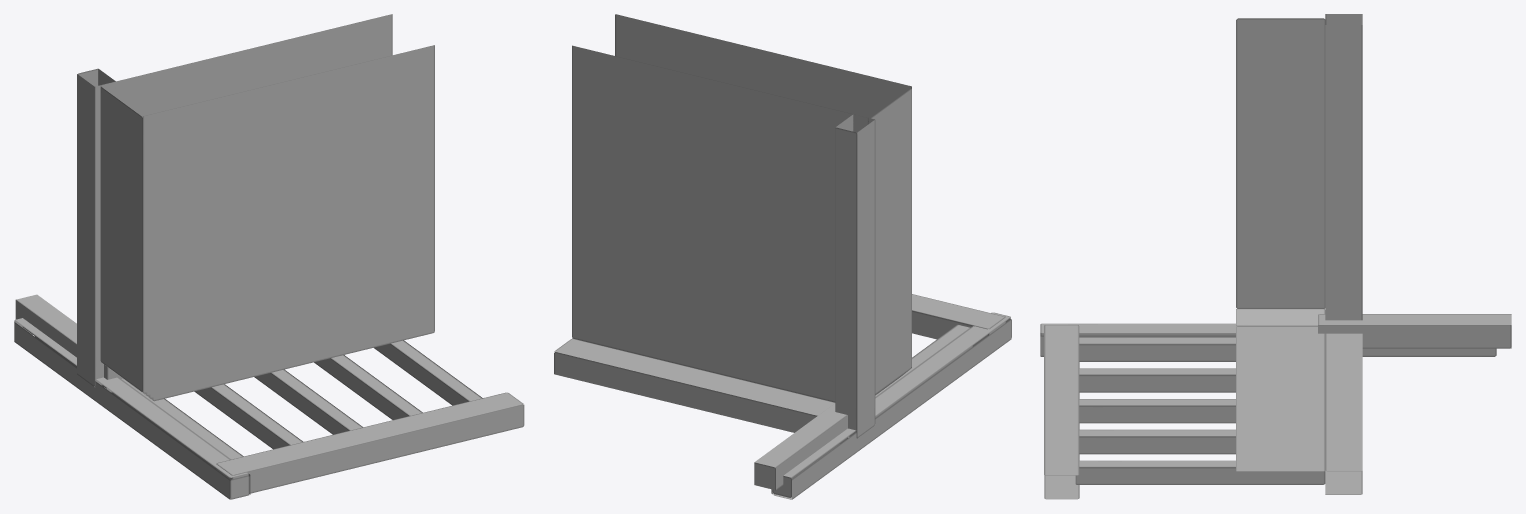
The model's file is pz_bed_bedding_01_large_fancy_0_0.obj.
3 renders of one model, left to right at view 1: azimuth 30°, elevation 25°; view 2: azimuth 150°, elevation 25°; view 3: azimuth 270°, elevation 25°, orthographic. The views are drawn at different scales.
Size of the model in its own units: 0.975 by 0.985 by 1.26.
1 material, 1 textured.
